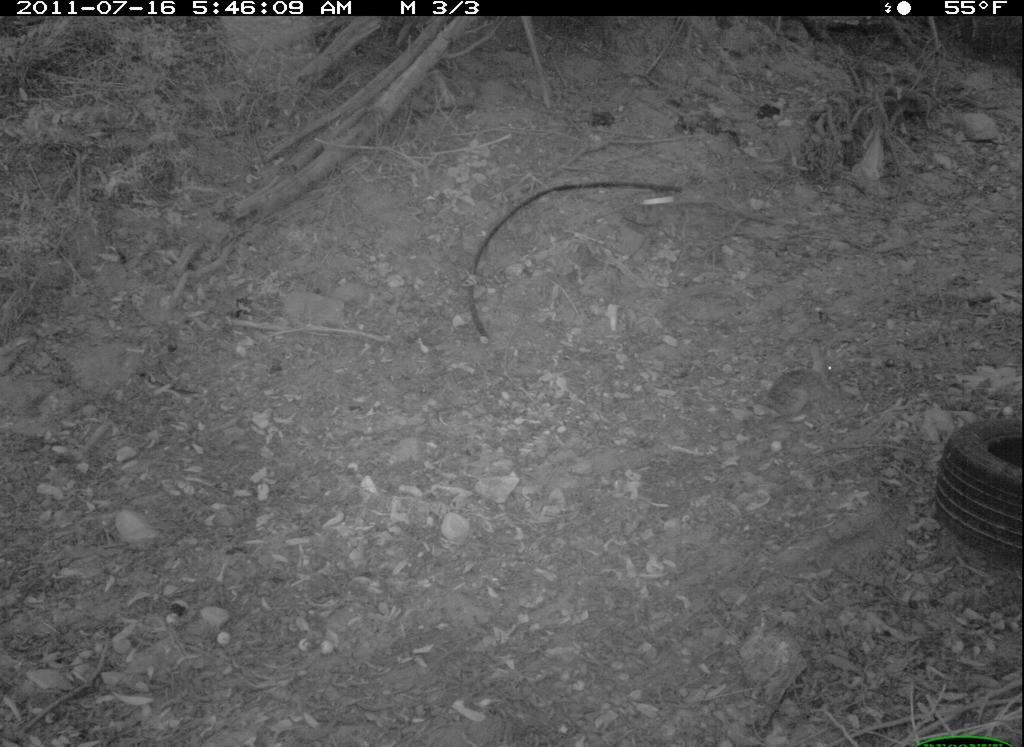rabbit: (763, 347, 844, 424)
